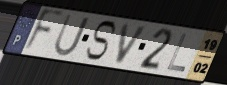2: (137, 27, 174, 71)
F: (20, 7, 66, 54)
L: (165, 32, 188, 74)
S: (84, 19, 118, 62)
U: (51, 13, 91, 58)
V: (114, 22, 151, 66)
